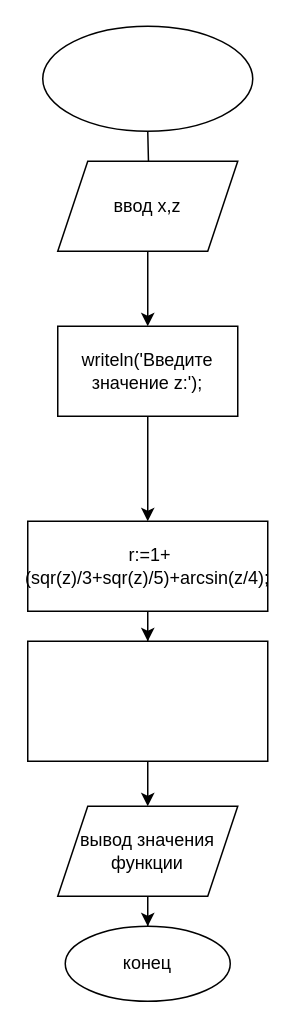
Some shapes in this 296 by 1028 pixel diagram are drawn without their labels. Each missing label, with the centre of its shape:
"writeln('Результат вычислений функции при произвольно введенных данных = ',r);" belongs at pixel 147 700.
"Начало программы" belongs at pixel 147 78.
